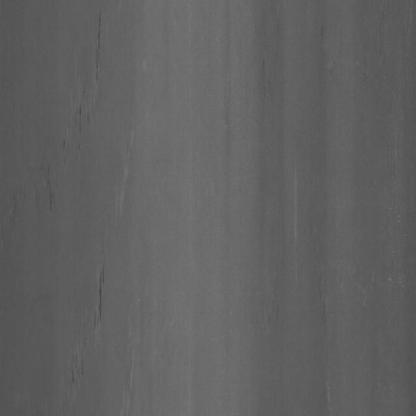silk_spot: (65, 17, 118, 125), (105, 116, 141, 243), (76, 263, 127, 345), (112, 328, 151, 416)
